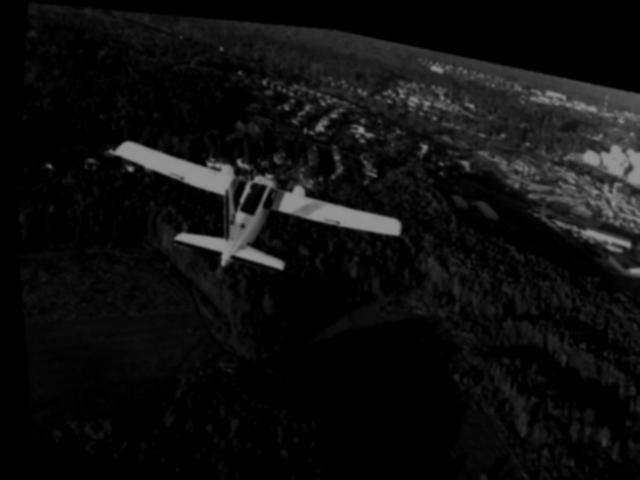hedef: (69, 121, 420, 301)
